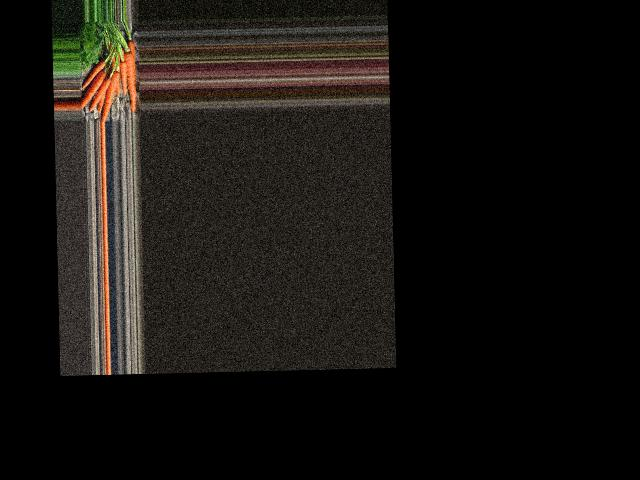carrot: (81, 59, 106, 86)
